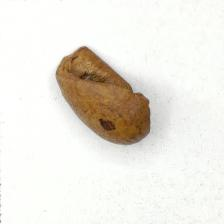NG: (59, 44, 149, 105)
